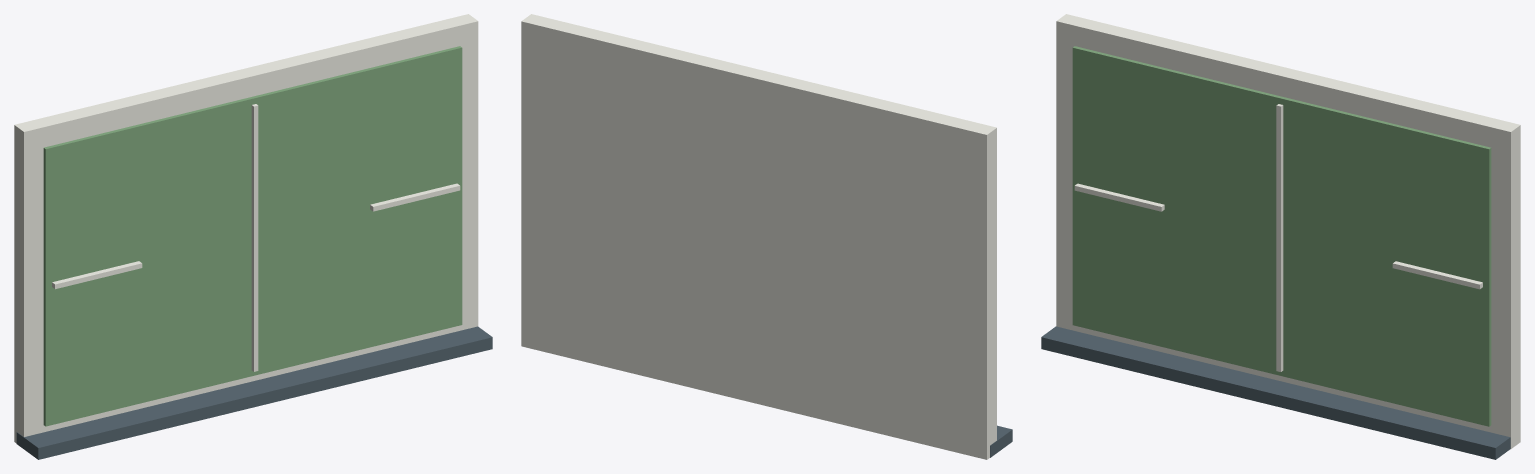
File: football-soccer-club-grounds-tactics-wall-board-15e2a3e2.glb
3 views of the same model, side by side, from view 1: azimuth 30°, elevation 25°; view 2: azimuth 150°, elevation 25°; view 3: azimuth 330°, elevation 25° (orthographic). The views are drawn at different scales.
Visible parts, largest first — view 1: tactics-wall-board; view 2: tactics-wall-board; view 3: tactics-wall-board.
Boxes of the visible parts, x1,y1,x2,y2 form: tactics-wall-board: (14,14,492,459); tactics-wall-board: (521,14,1012,459); tactics-wall-board: (1041,14,1520,459).
Size of the model in its own units: 1.2 by 0.8 by 0.1126.
